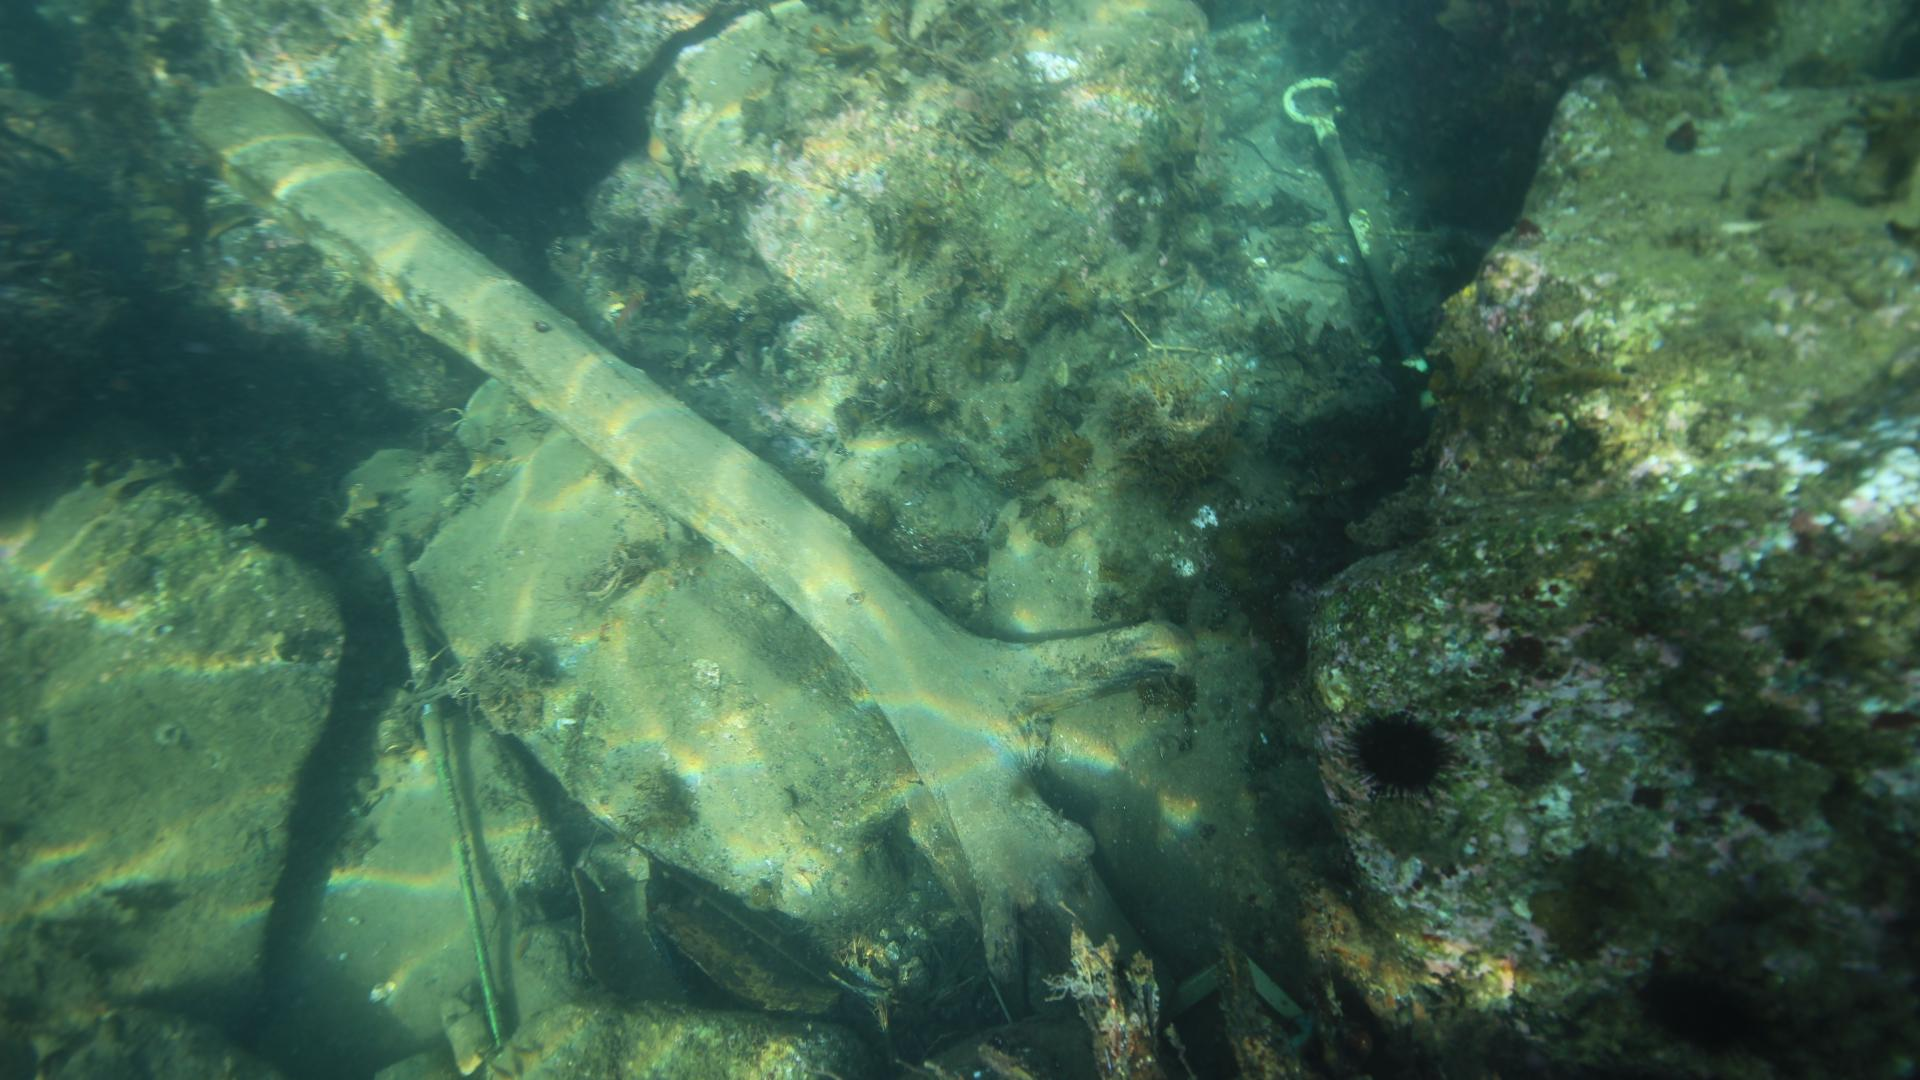wood: (189, 84, 1185, 1004)
